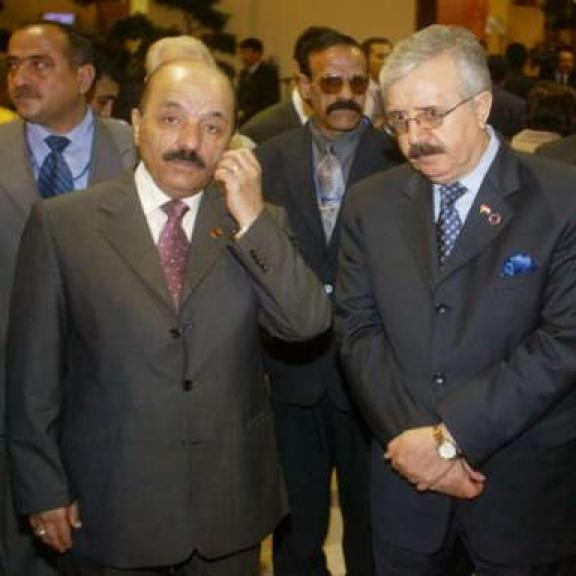face: (383, 54, 497, 182), (131, 74, 246, 198), (3, 26, 98, 122), (290, 39, 373, 130)
